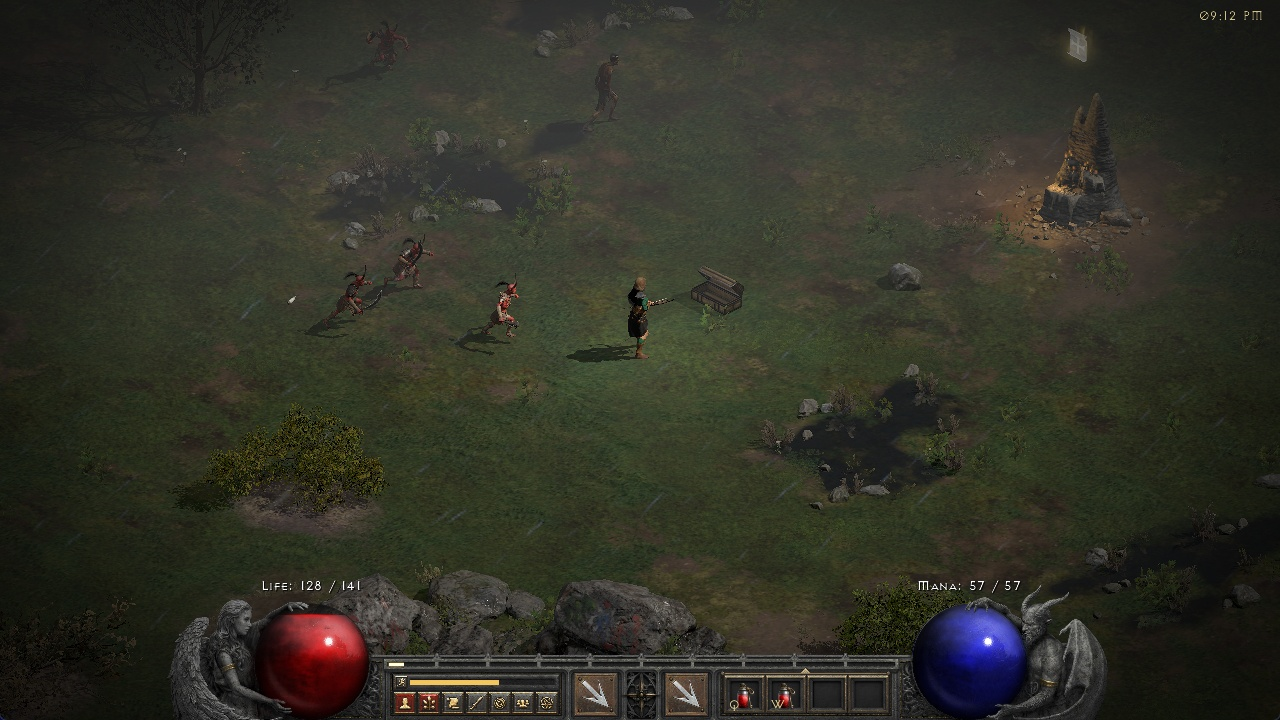fallen: (479, 271, 529, 346), (364, 21, 415, 82), (325, 269, 381, 321), (391, 236, 438, 293)
